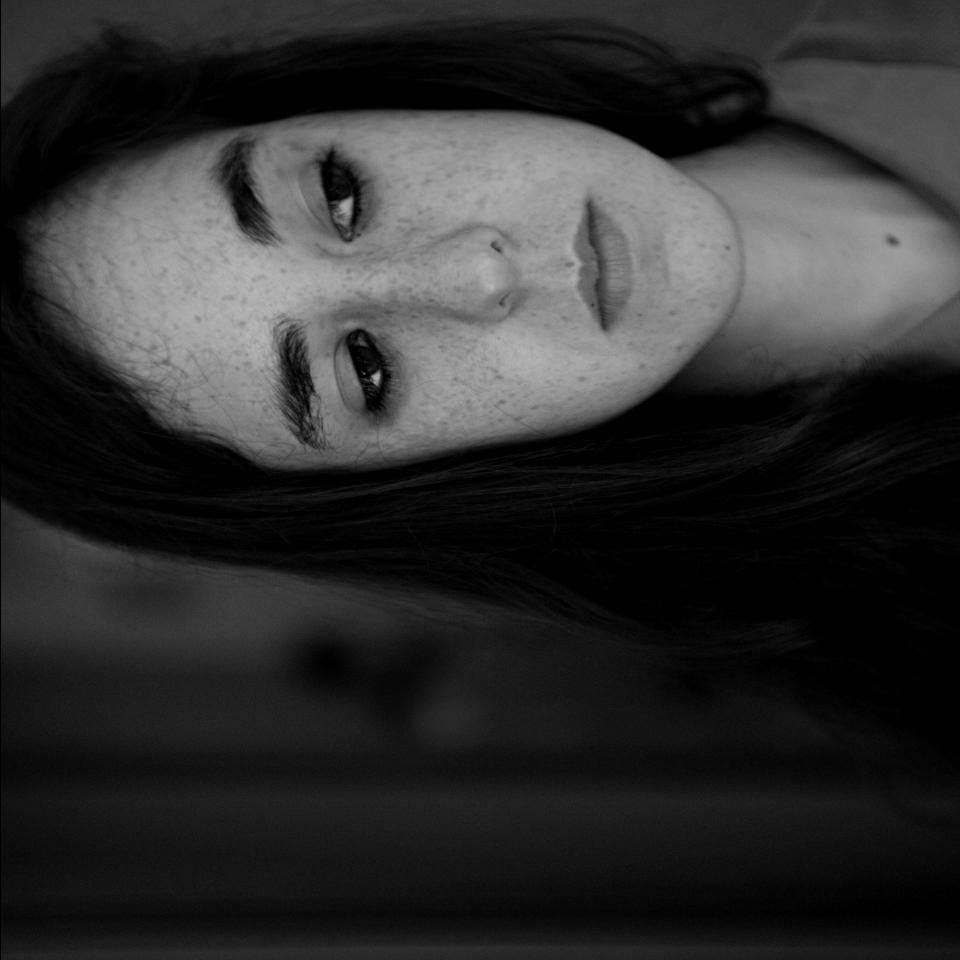Sadness: (38, 92, 741, 466)
